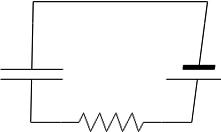resistor: (64, 103, 153, 129)
